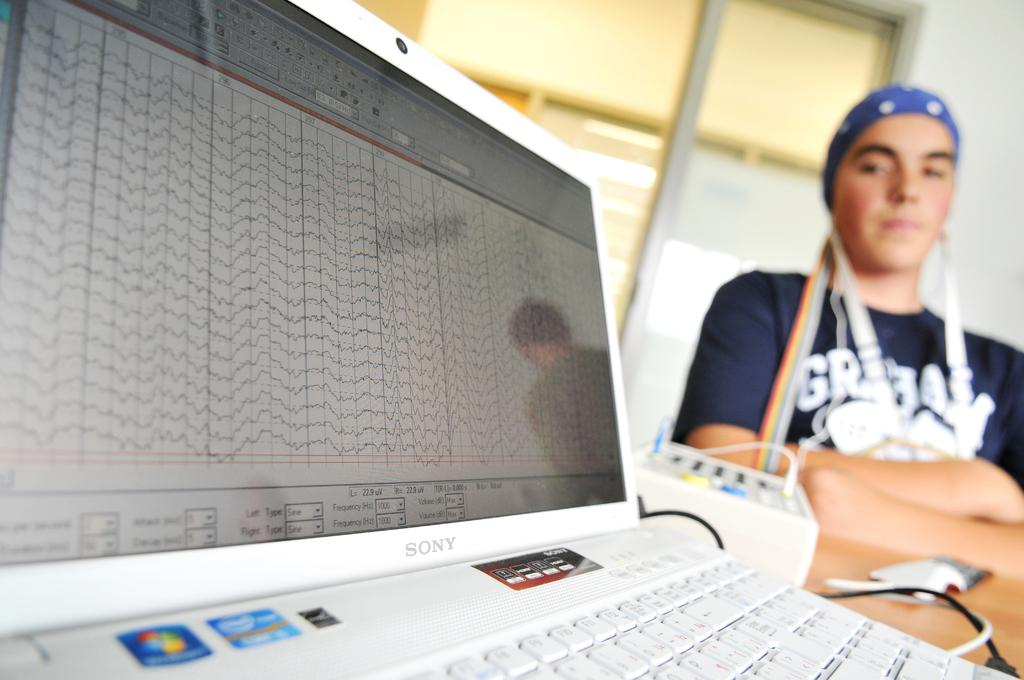Pessoa: (673, 86, 1023, 577), (509, 298, 617, 479)
